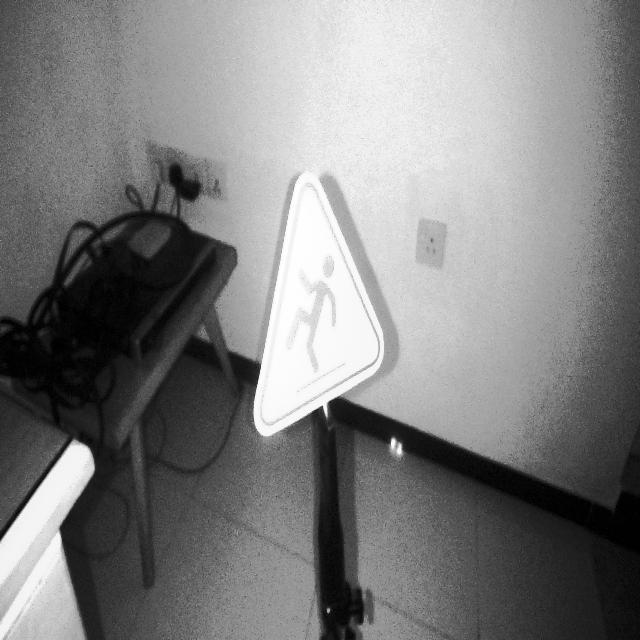Sign: (252, 170, 386, 440)
